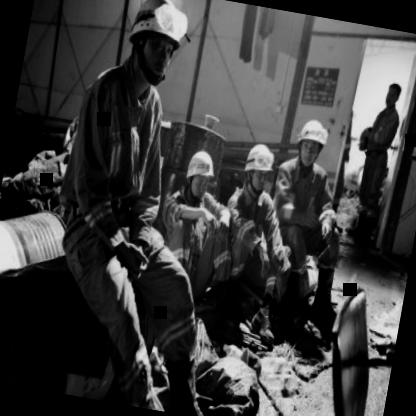head: (380, 76, 404, 114)
helmet: (113, 0, 195, 94), (289, 114, 333, 171), (237, 136, 278, 194), (180, 144, 216, 201)
